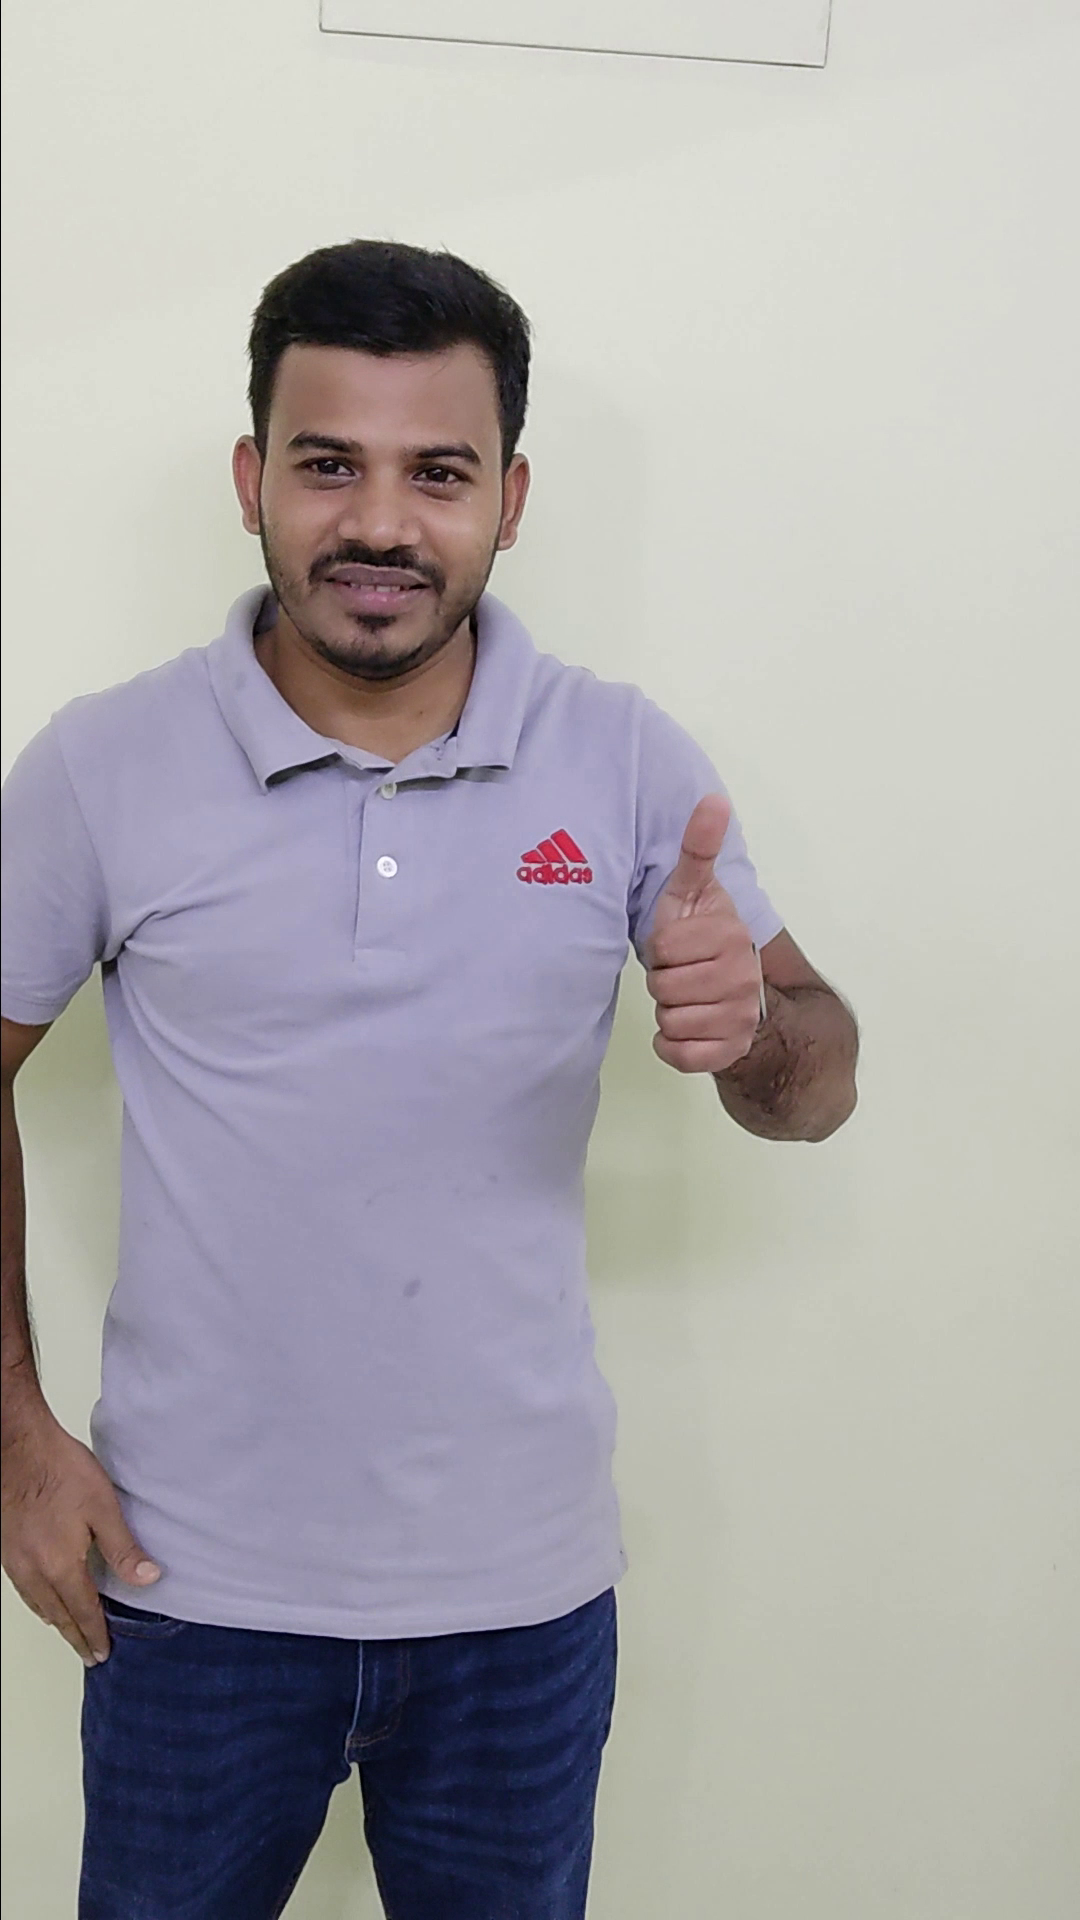Like: (612, 778, 785, 1087)
None: (3, 1395, 178, 1679)
